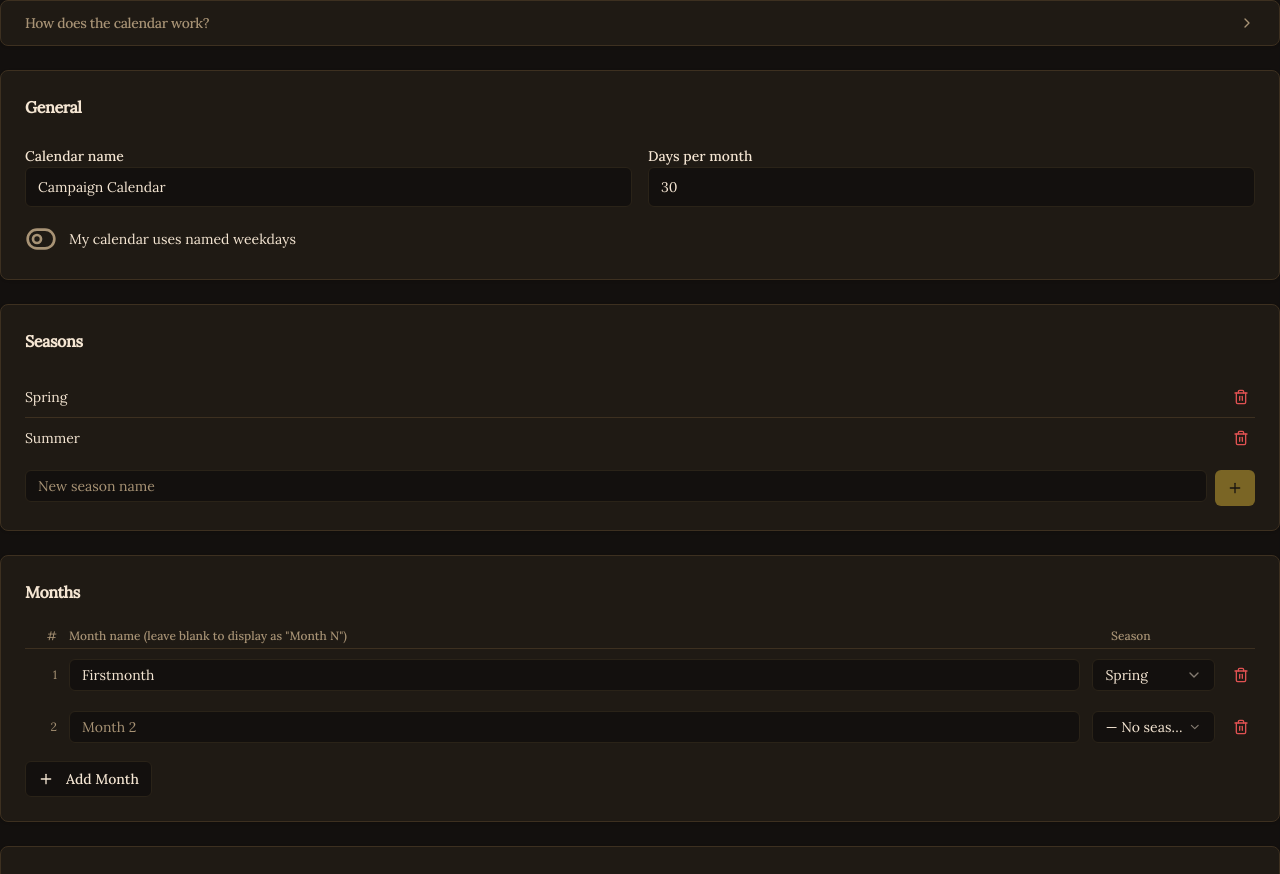
CalendarTab — calendar exists › clicking CalendarInfoPanel header expands guide content
Click the text "How does the calendar work?": (117, 23) [25,13,209,33]
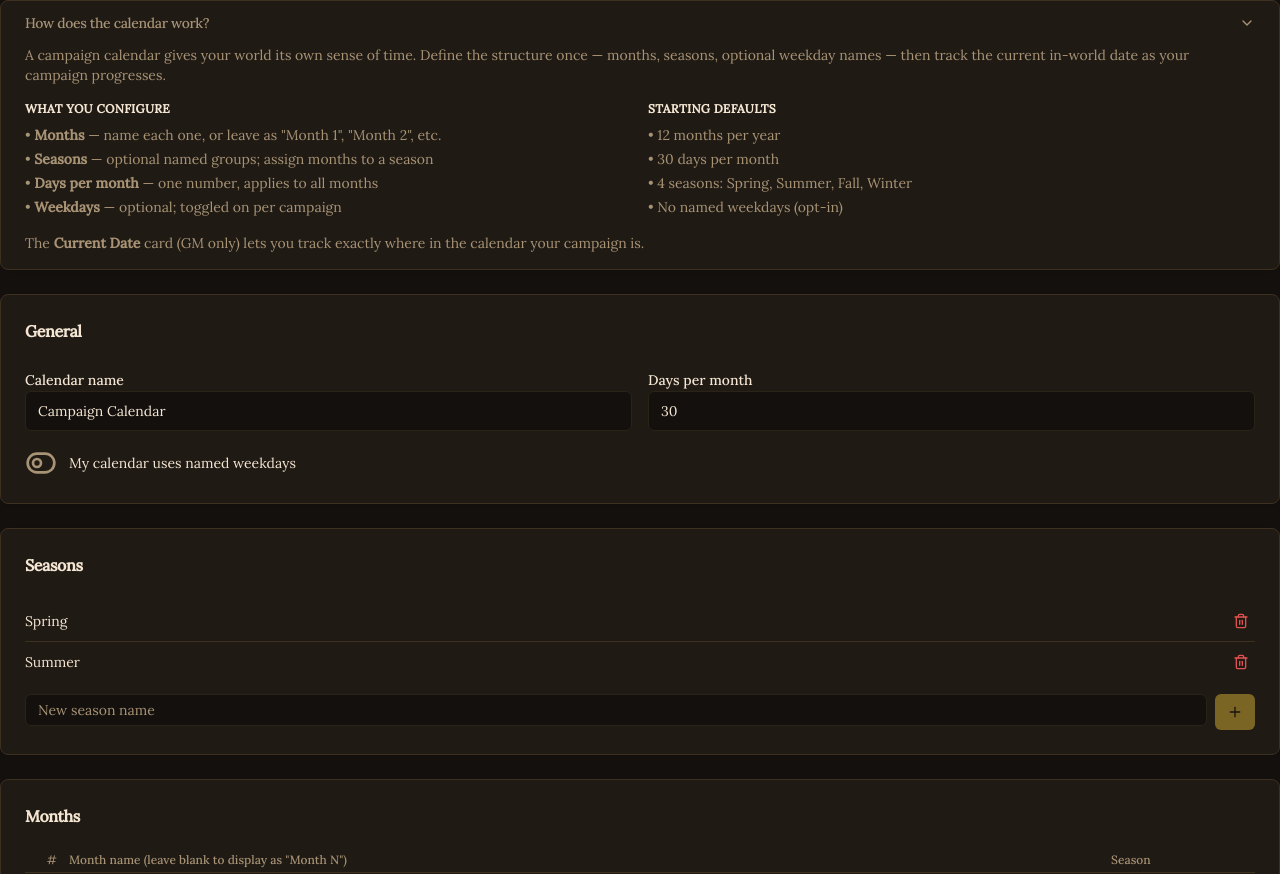
expect the text "gives your world its own sense of time" is shown: met, box [25,46,1189,84]
